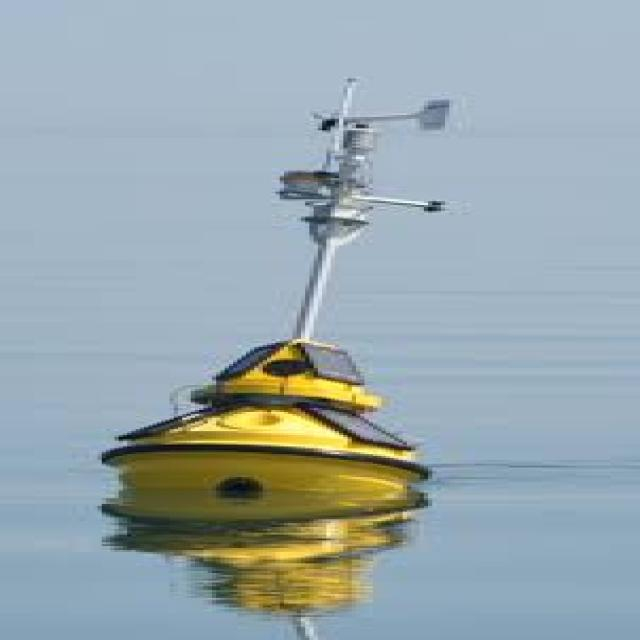buoy: (68, 62, 485, 546)
